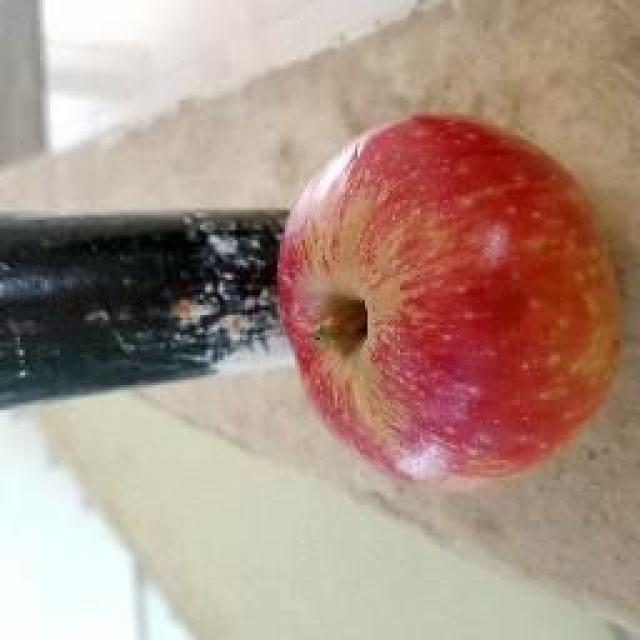Good_Apple: (275, 110, 622, 488)
